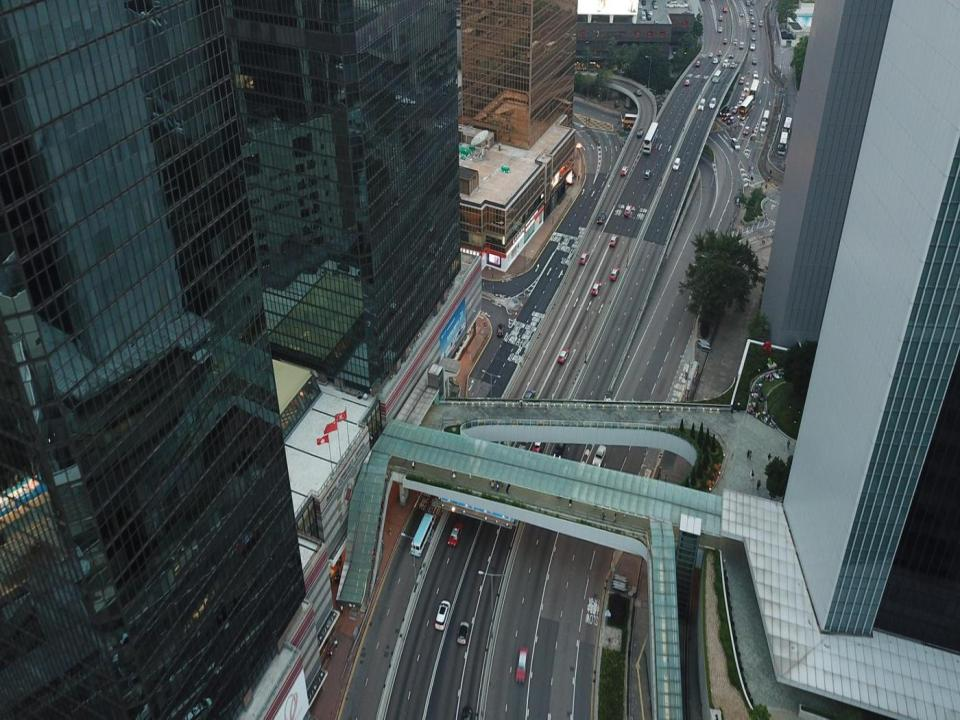bus: (410, 512, 433, 556), (642, 120, 657, 154), (737, 93, 754, 122), (623, 112, 645, 128), (778, 131, 789, 157), (782, 115, 792, 136), (750, 76, 758, 100)
car: (516, 645, 527, 684), (448, 522, 463, 546), (592, 443, 606, 467), (457, 619, 468, 646), (532, 431, 543, 458), (523, 389, 536, 408), (558, 347, 569, 365), (590, 281, 602, 296), (460, 706, 473, 719), (578, 251, 590, 265), (672, 156, 681, 171), (610, 266, 619, 280), (609, 234, 618, 247), (597, 213, 606, 226), (624, 204, 632, 217), (497, 323, 504, 336), (678, 1, 689, 9), (742, 80, 749, 92), (644, 169, 651, 180), (723, 57, 730, 68), (758, 18, 764, 30), (726, 115, 734, 124), (759, 120, 765, 132), (637, 127, 644, 137), (728, 60, 735, 70), (710, 96, 716, 107), (653, 19, 659, 30), (622, 166, 628, 176), (752, 56, 758, 66), (738, 74, 744, 84), (635, 88, 642, 96), (721, 4, 728, 12), (712, 56, 719, 64), (751, 70, 758, 78), (731, 105, 739, 112), (722, 113, 730, 120), (652, 1, 658, 10), (739, 41, 744, 51), (744, 125, 749, 135), (684, 78, 690, 86), (728, 52, 734, 59), (750, 6, 754, 16), (752, 24, 756, 34), (752, 32, 756, 42), (750, 41, 755, 49), (740, 93, 745, 101), (646, 12, 650, 22), (638, 0, 643, 8), (751, 0, 757, 6), (736, 100, 742, 106), (695, 59, 700, 66), (722, 37, 726, 45), (750, 17, 754, 25), (648, 7, 652, 15), (717, 25, 722, 31), (734, 36, 737, 46), (740, 10, 744, 17), (745, 0, 749, 7), (718, 49, 721, 57), (719, 13, 722, 21), (708, 51, 712, 56), (642, 0, 646, 5)
van: (436, 598, 450, 630), (552, 435, 566, 461), (718, 104, 730, 119), (730, 138, 742, 151), (712, 69, 720, 83), (762, 109, 770, 123), (698, 98, 706, 110), (664, 1, 677, 7), (641, 10, 645, 22)
